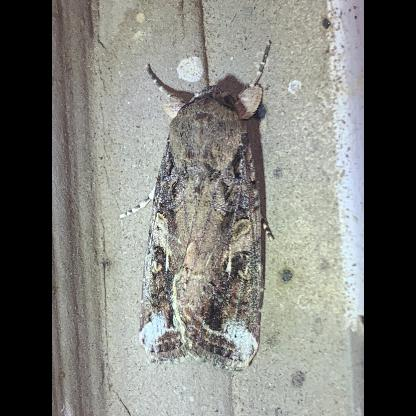Fall Armyworm Moth: (116, 37, 278, 377)
